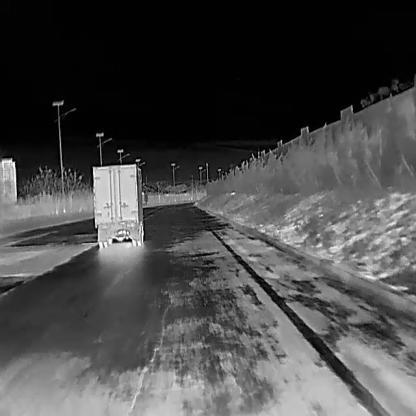car: (92, 162, 146, 247)
